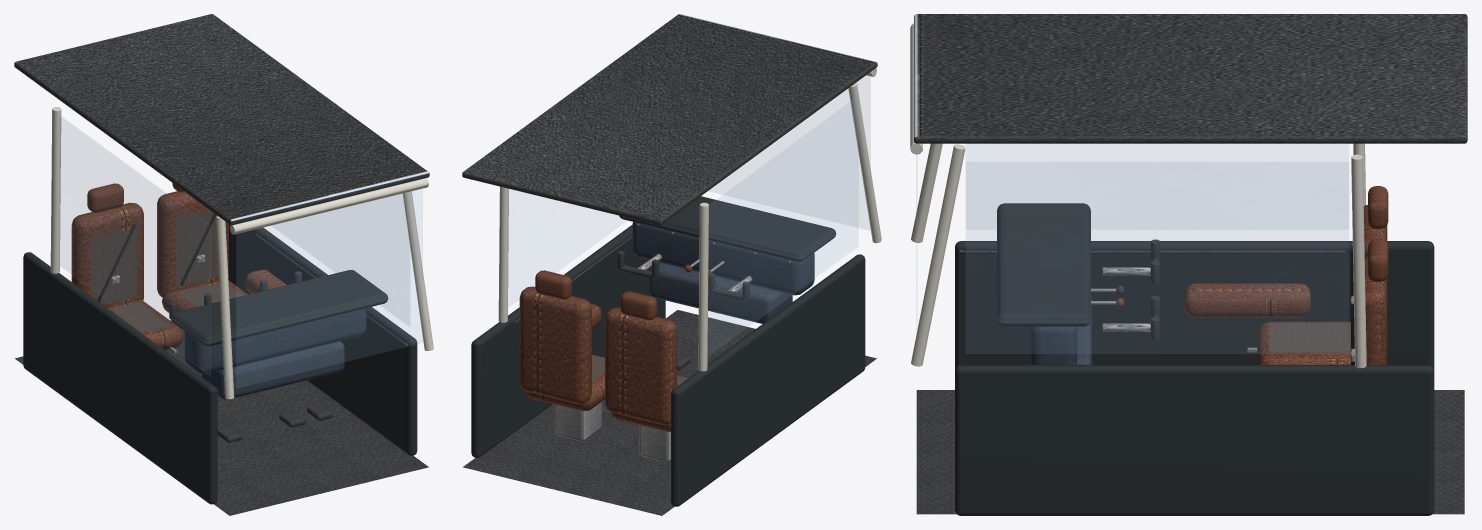
File: aircraft-cab.glb
The picture shows the model from 3 angles, left to right: view 1: azimuth 30°, elevation 25°; view 2: azimuth 150°, elevation 25°; view 3: azimuth 270°, elevation 25°; orthographic projection. The views are drawn at different scales.
Visible parts, largest first — view 1: AircraftCabRoot Tile 16 Faint glass smudges, Roof lining, AircraftCabRoot charcoal, AircraftCabRoot Tile 15 Antislip floor, AircraftCabRoot Tile 10 Stitched tobacco leather, AircraftCabRoot Tile 09 Blank cockpit powdercoat, AircraftCabRoot Tile 11 Woven upholstery, AircraftCabRoot Tile 03 Riveted wing skin, AircraftCabRoot Tile 12 Matte cockpit plastic; view 2: Roof lining, AircraftCabRoot charcoal, AircraftCabRoot Tile 16 Faint glass smudges, AircraftCabRoot Tile 10 Stitched tobacco leather, AircraftCabRoot Tile 15 Antislip floor, AircraftCabRoot Tile 09 Blank cockpit powdercoat, AircraftCabRoot Tile 03 Riveted wing skin, AircraftCabRoot Tile 14 Mechanical gear steel, YokeRight Tile 12 Matte cockpit plastic, YokeLeft Tile 12 Matte cockpit plastic; view 3: AircraftCabRoot charcoal, AircraftCabRoot Tile 16 Faint glass smudges, Roof lining, AircraftCabRoot Tile 10 Stitched tobacco leather, AircraftCabRoot Tile 15 Antislip floor, AircraftCabRoot Tile 03 Riveted wing skin, AircraftCabRoot Tile 09 Blank cockpit powdercoat, AircraftCabRoot Tile 11 Woven upholstery, AircraftCabRoot Tile 12 Matte cockpit plastic.
Part boxes in pixels (<box>): AircraftCabRoot Tile 16 Faint glass smudges: <box>60,116,422,387</box>; Roof lining: <box>14,14,429,225</box>; AircraftCabRoot charcoal: <box>23,224,417,504</box>; AircraftCabRoot Tile 15 Antislip floor: <box>15,320,428,515</box>; AircraftCabRoot Tile 10 Stitched tobacco leather: <box>71,183,286,350</box>; AircraftCabRoot Tile 09 Blank cockpit powdercoat: <box>184,308,366,399</box>; AircraftCabRoot Tile 11 Woven upholstery: <box>91,209,243,332</box>; AircraftCabRoot Tile 03 Riveted wing skin: <box>50,107,433,399</box>; AircraftCabRoot Tile 12 Matte cockpit plastic: <box>97,213,407,392</box>; Roof lining: <box>462,14,877,225</box>; AircraftCabRoot charcoal: <box>471,196,865,506</box>; AircraftCabRoot Tile 16 Faint glass smudges: <box>508,76,870,355</box>; AircraftCabRoot Tile 10 Stitched tobacco leather: <box>519,264,691,431</box>; AircraftCabRoot Tile 15 Antislip floor: <box>463,310,876,515</box>; AircraftCabRoot Tile 09 Blank cockpit powdercoat: <box>632,222,814,323</box>; AircraftCabRoot Tile 03 Riveted wing skin: <box>498,68,881,371</box>; AircraftCabRoot Tile 14 Mechanical gear steel: <box>554,223,790,461</box>; YokeRight Tile 12 Matte cockpit plastic: <box>617,251,659,279</box>; YokeLeft Tile 12 Matte cockpit plastic: <box>708,273,749,301</box>; AircraftCabRoot charcoal: <box>955,203,1434,515</box>; AircraftCabRoot Tile 16 Faint glass smudges: <box>916,144,1348,353</box>; Roof lining: <box>914,14,1467,143</box>; AircraftCabRoot Tile 10 Stitched tobacco leather: <box>1116,186,1388,364</box>; AircraftCabRoot Tile 15 Antislip floor: <box>916,390,1464,514</box>; AircraftCabRoot Tile 03 Riveted wing skin: <box>910,23,1366,368</box>; AircraftCabRoot Tile 09 Blank cockpit powdercoat: <box>1029,293,1091,364</box>; AircraftCabRoot Tile 11 Woven upholstery: <box>1269,323,1350,351</box>; AircraftCabRoot Tile 12 Matte cockpit plastic: <box>959,250,1354,364</box>.
Bounding box in the file's own units: 1.57 × 2.13 × 2.85.
Materials: 10 (9 with a texture image).
